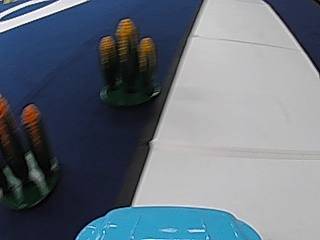corn: (4, 100, 60, 211), (96, 15, 160, 110)
